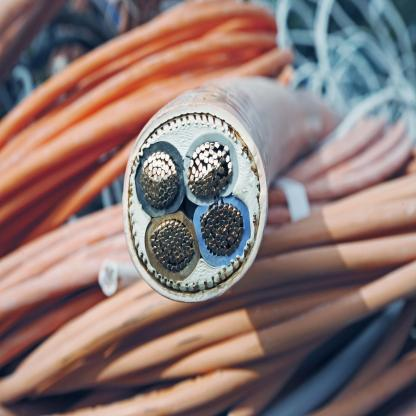wires: (1, 2, 416, 416)
